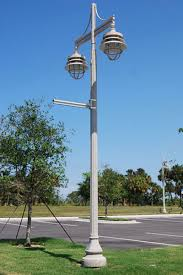light_pole: (82, 4, 114, 274)
